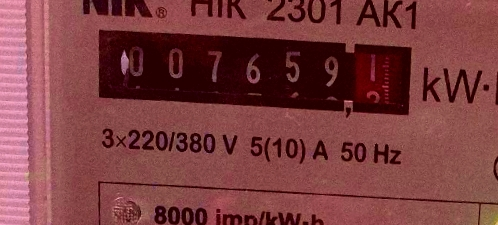0: (163, 43, 188, 82), (123, 40, 147, 80)
1: (363, 48, 382, 85)
5: (281, 46, 303, 85)
6: (240, 48, 265, 86)
7: (200, 45, 224, 84)
9: (318, 51, 342, 90)
screen: (83, 15, 423, 130)
